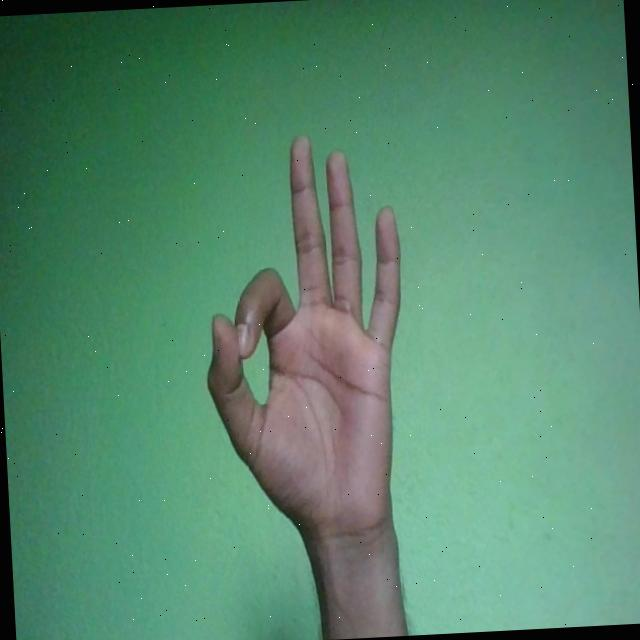Rock On: (194, 132, 414, 552)
